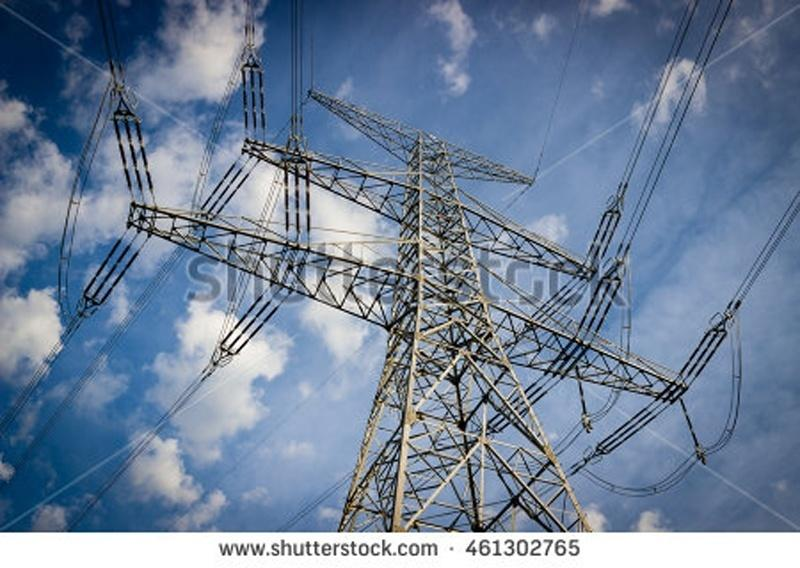power_tower: (145, 83, 691, 535)
